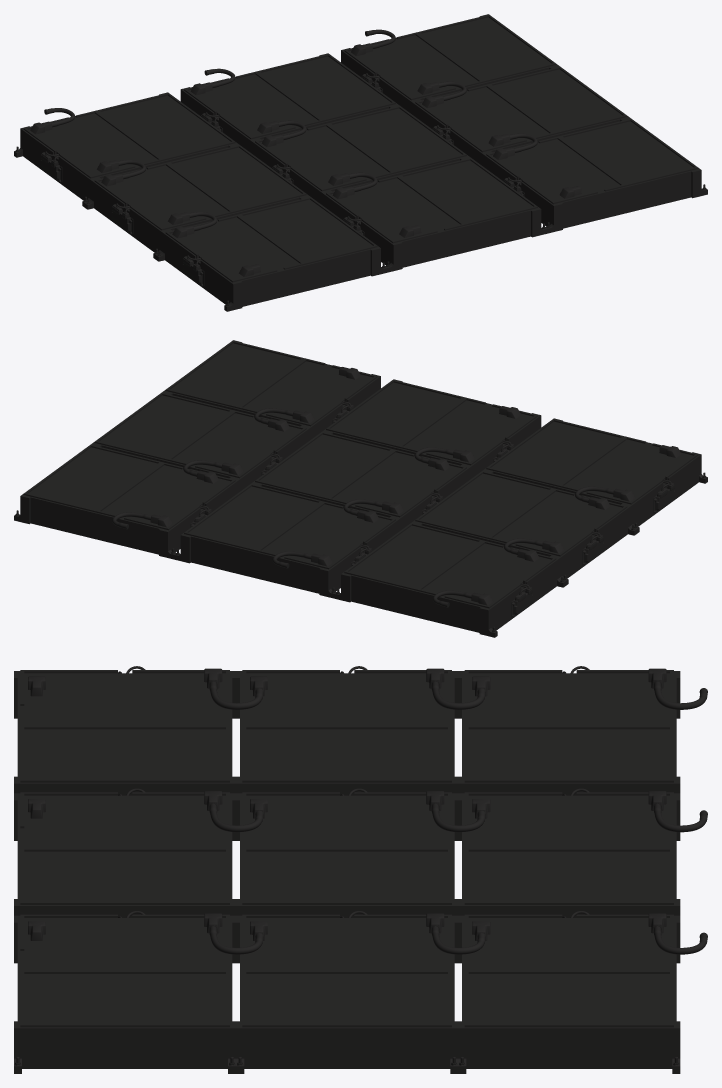
Rendered from battery.glb.
3 views of the same model, one above another, from view 1: azimuth 30°, elevation 25°; view 2: azimuth 150°, elevation 25°; view 3: azimuth 270°, elevation 25° (orthographic). The views are drawn at different scales.
Parts seen in each view (by area): view 1: Battery_Module_1(1), Battery_Module_1(4), Battery_Module_1(7), Battery_Module_1(8), Battery_Module_1(0), Battery_Module_1(2), Battery_Module_1(5), Battery_Module_1(3), Battery_Module_1(6); view 2: Battery_Module_1(8), Battery_Module_1(2), Battery_Module_1(5), Battery_Module_1(1), Battery_Module_1(0), Battery_Module_1(4), Battery_Module_1(7), Battery_Module_1(3), Battery_Module_1(6); view 3: Battery_Module_1(7), Battery_Module_1(5), Battery_Module_1(6), Battery_Module_1(1), Battery_Module_1(4), Battery_Module_1(0), Battery_Module_1(8), Battery_Module_1(2), Battery_Module_1(3).
Part boxes in pixels (x1,y1,x2,y2): Battery_Module_1(1): (156,196,387,311); Battery_Module_1(4): (322,157,547,272); Battery_Module_1(7): (483,118,707,233); Battery_Module_1(8): (14,92,238,207); Battery_Module_1(0): (85,144,309,259); Battery_Module_1(2): (180,53,398,153); Battery_Module_1(5): (341,14,558,113); Battery_Module_1(3): (251,105,469,205); Battery_Module_1(6): (412,66,629,165); Battery_Module_1(8): (334,522,565,637); Battery_Module_1(2): (174,483,399,598); Battery_Module_1(5): (14,444,238,559); Battery_Module_1(1): (483,418,707,533); Battery_Module_1(0): (412,470,636,585); Battery_Module_1(4): (323,379,541,479); Battery_Module_1(7): (163,340,380,439); Battery_Module_1(3): (252,431,470,531); Battery_Module_1(6): (92,392,309,491); Battery_Module_1(7): (14,911,263,1073); Battery_Module_1(5): (458,911,707,1073); Battery_Module_1(6): (236,911,485,1073); Battery_Module_1(1): (14,666,263,795); Battery_Module_1(4): (14,788,263,917); Battery_Module_1(0): (236,666,485,795); Battery_Module_1(8): (458,666,707,795); Battery_Module_1(2): (458,788,707,917); Battery_Module_1(3): (236,788,485,917).
Size of the model in its own units: 0.0421 by 0.00267 by 0.0337.
1 material, 1 textured.
